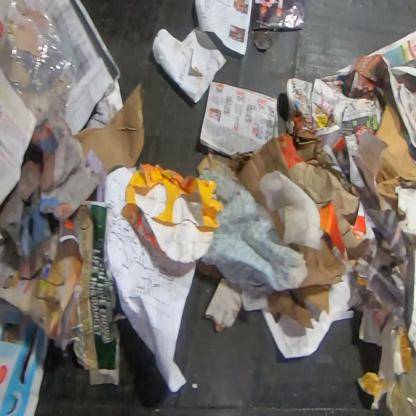cardboard: (195, 132, 377, 330), (73, 81, 146, 175), (374, 102, 416, 237), (194, 260, 243, 332)
soft_plastic: (0, 0, 80, 116)
